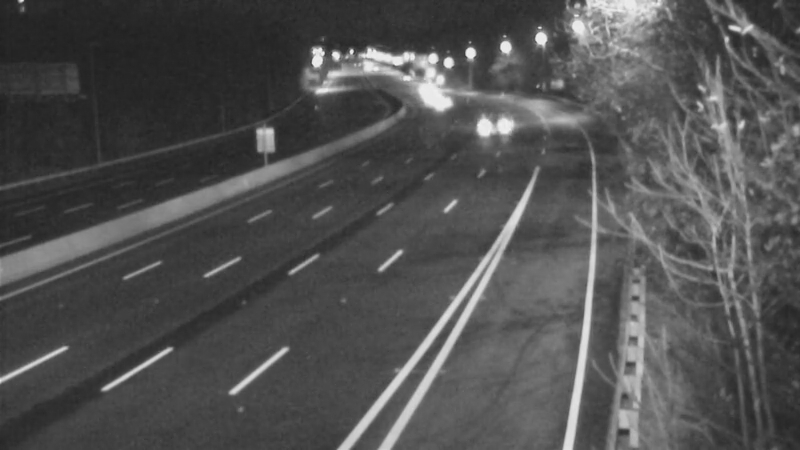vehicle: (393, 63, 443, 113), (403, 69, 453, 119), (414, 77, 464, 127), (463, 100, 513, 150)
